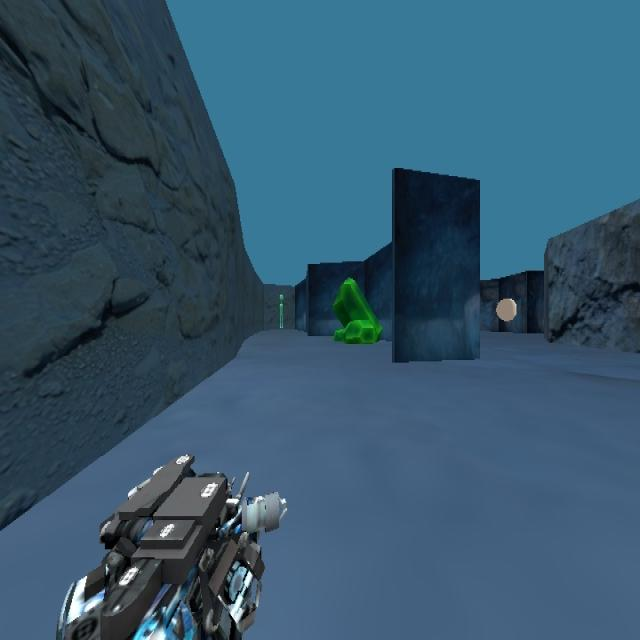Alien: (276, 284, 290, 339)
Circle: (495, 298, 517, 322)
Diamon: (331, 275, 382, 344)
